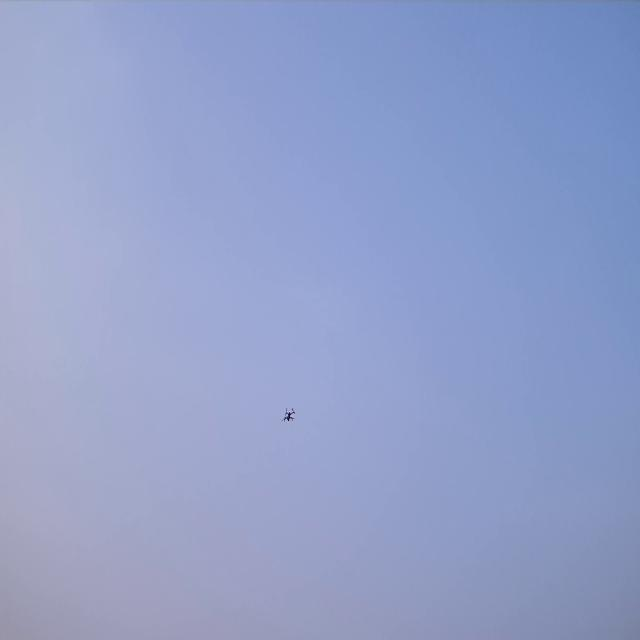UAV: (281, 407, 296, 422)
